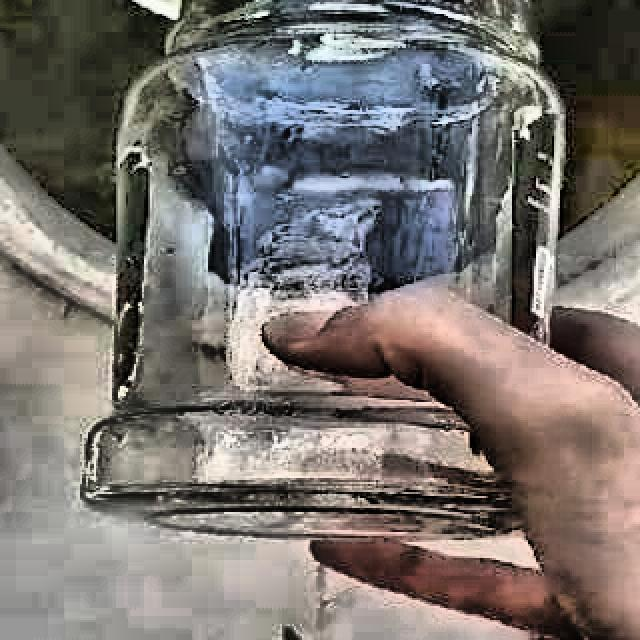glass: (85, 0, 563, 540)
